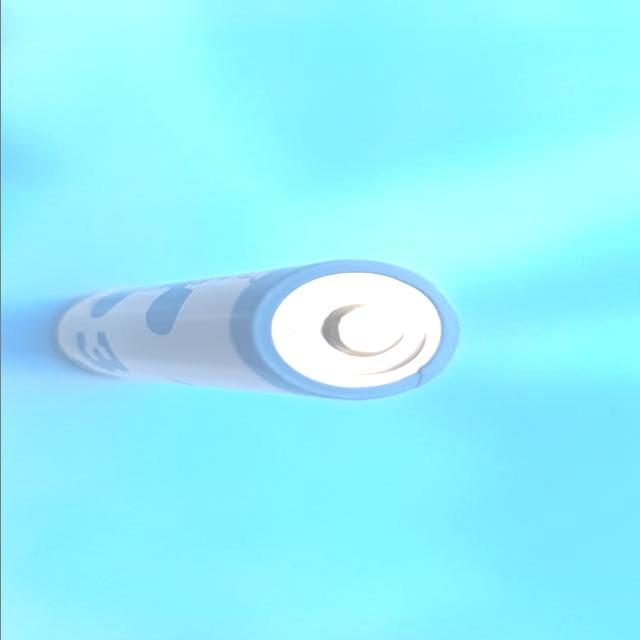AA: (49, 259, 462, 400)
